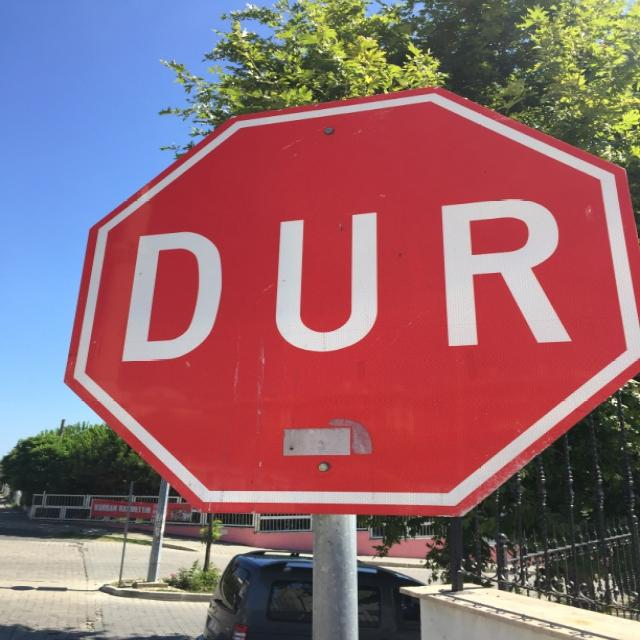dur: (66, 86, 640, 518)
